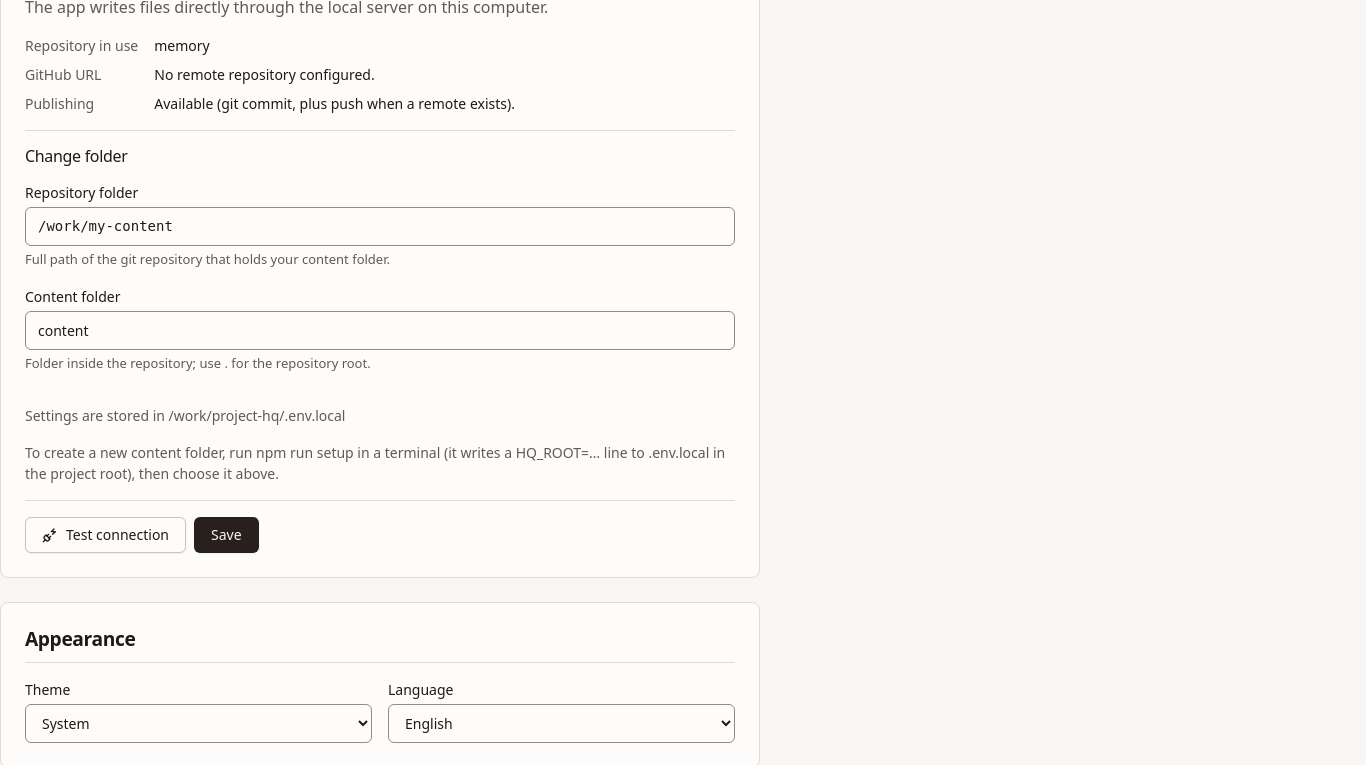
SettingsPage (local mode) › switches language and theme
The width and height of the screenshot is (1366, 765).
(page scrolled)
Select "Dark" in the dropdown labelled "Theme" at (198, 724), box [25,704,372,743]
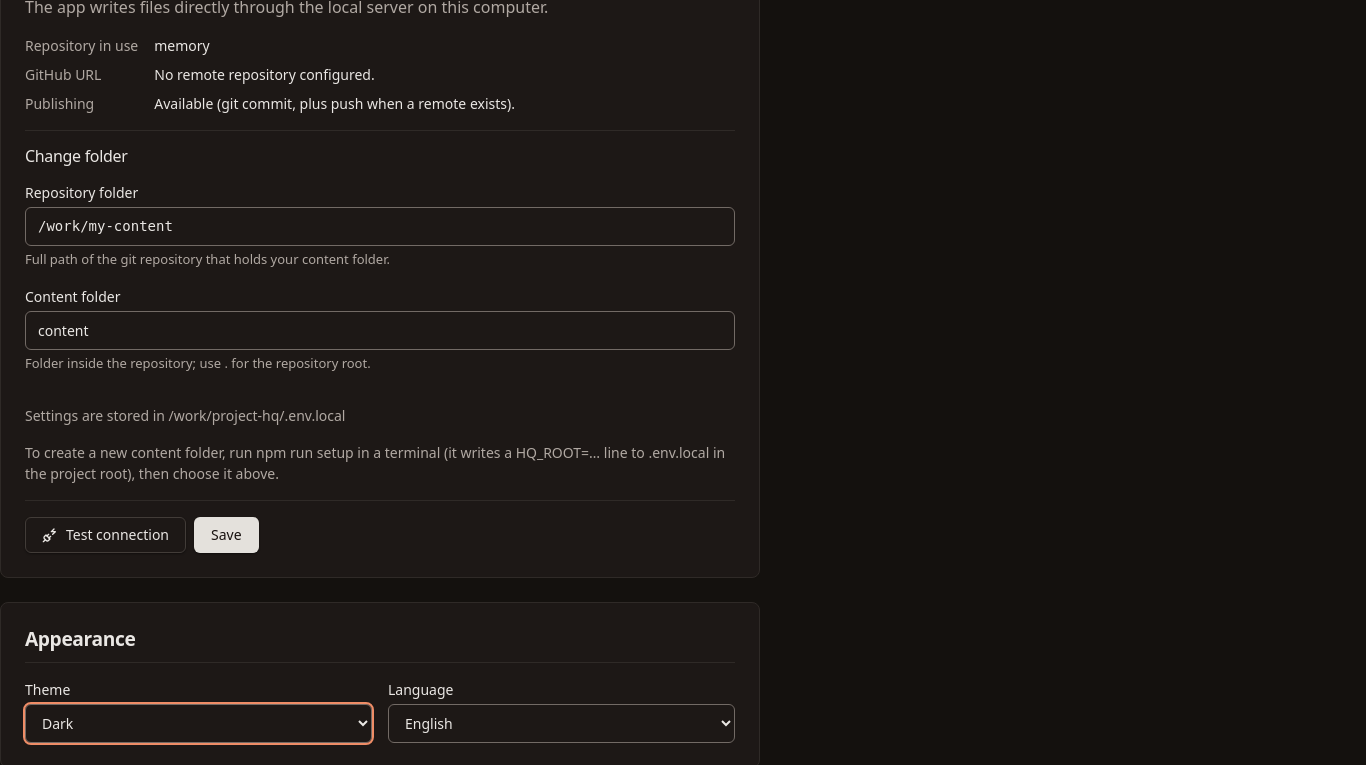
Select "Türkçe" in the dropdown labelled "Language" at (562, 724), box [388,704,735,743]
(page scrolled)
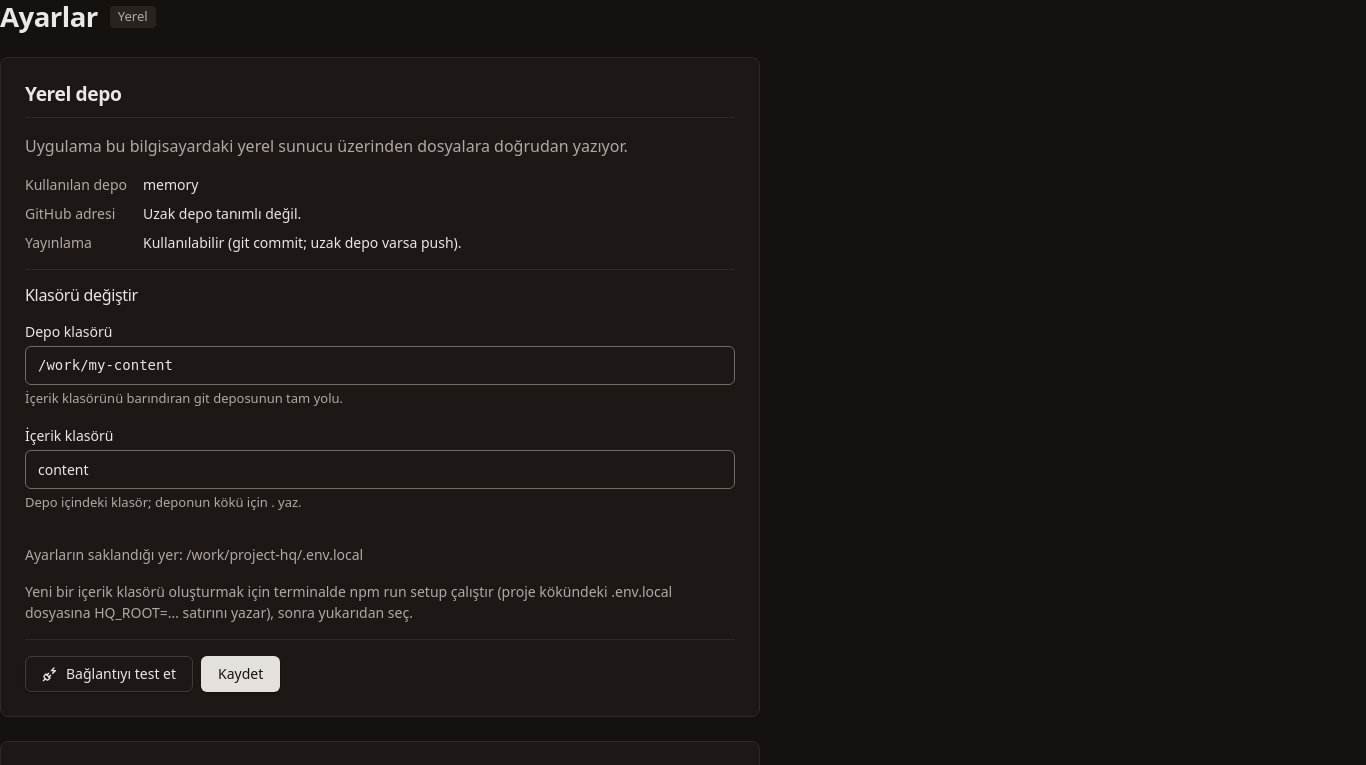
Expected: the heading "Ayarlar" is shown, [0,0,98,33]
